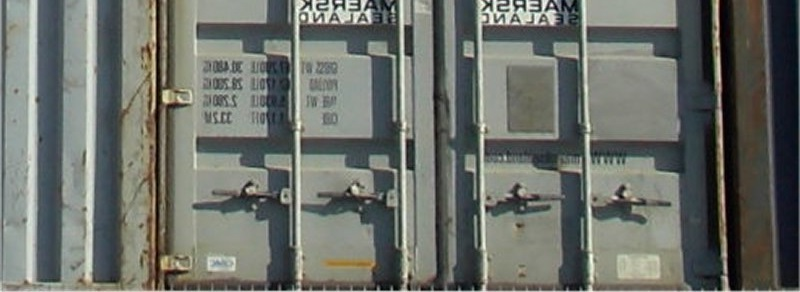container_door: (157, 4, 736, 290)
